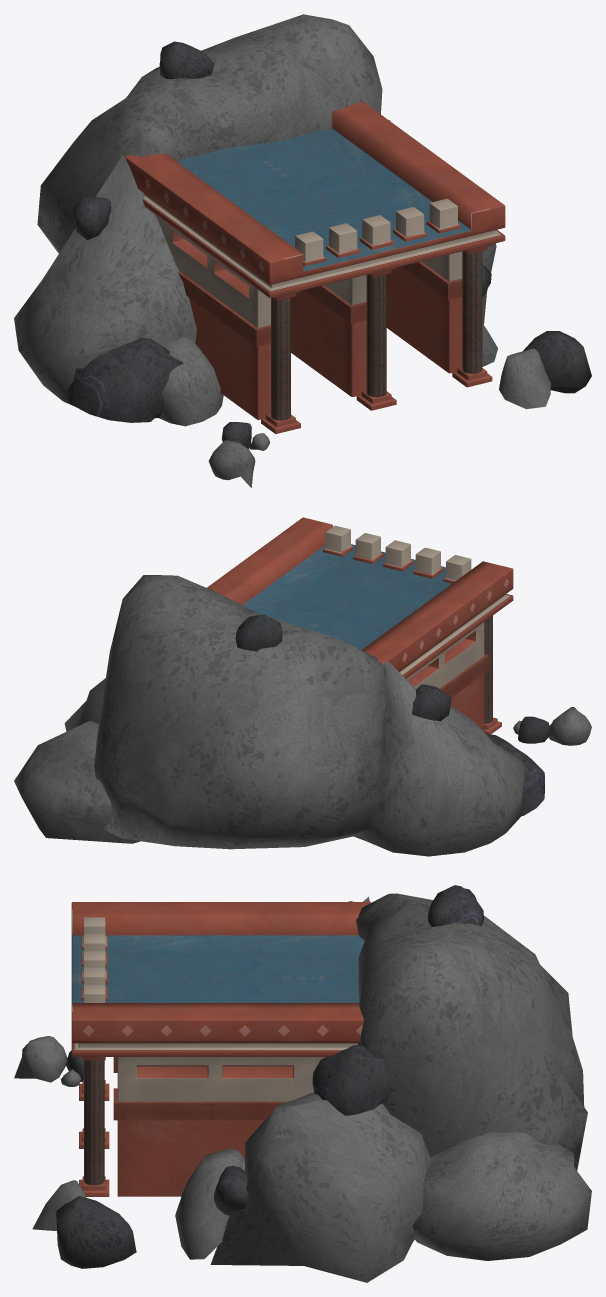
Rendered from ASSETMODEL_MINA.fbx.
The picture shows the model from 3 angles, top to bottom: view 1: azimuth 30°, elevation 25°; view 2: azimuth 150°, elevation 25°; view 3: azimuth 270°, elevation 25°; orthographic projection. The views are drawn at different scales.
Visible parts, largest first — view 1: Plane.008, Cube.023, Cylinder.003, Plane.013, Cylinder.007, Cube.022, Cylinder.002, Plane.009, Cylinder.011, Cylinder.012, Cylinder.009, Cylinder.013 (+3 smaller); view 2: Cube.023, Plane.008, Cylinder.003, Cylinder.004, Cube.022, Cylinder.007, Cylinder.009, Cylinder.013, Cylinder.008, Plane.013, Cylinder.001, Plane.009 (+1 smaller); view 3: Plane.008, Cube.023, Cylinder.001, Cylinder.004, Cylinder.011, Cylinder, Cylinder.005, Plane.013, Plane.009, Cube.022, Cylinder.013, Cylinder.009 (+2 smaller).
Boxes of the visible parts, bbox=[...] form: Plane.008: bbox=[125, 101, 505, 420]; Cube.023: bbox=[37, 14, 382, 253]; Cylinder.003: bbox=[14, 155, 196, 406]; Plane.013: bbox=[261, 244, 492, 433]; Cylinder.007: bbox=[64, 337, 183, 422]; Cube.022: bbox=[295, 198, 460, 266]; Cylinder.002: bbox=[158, 337, 223, 426]; Plane.009: bbox=[178, 261, 462, 346]; Cylinder.011: bbox=[523, 331, 591, 393]; Cylinder.012: bbox=[499, 348, 550, 409]; Cylinder.009: bbox=[159, 41, 214, 79]; Cylinder.013: bbox=[208, 440, 255, 487]; Cube.023: bbox=[94, 575, 386, 849]; Plane.008: bbox=[207, 517, 513, 731]; Cylinder.003: bbox=[354, 660, 525, 856]; Cylinder.004: bbox=[14, 720, 140, 843]; Cube.022: bbox=[323, 525, 471, 583]; Cylinder.007: bbox=[486, 734, 544, 816]; Cylinder.009: bbox=[235, 614, 282, 651]; Cylinder.013: bbox=[549, 707, 591, 745]; Cylinder.008: bbox=[412, 684, 451, 721]; Plane.013: bbox=[484, 615, 501, 734]; Cylinder.001: bbox=[64, 678, 105, 731]; Plane.009: bbox=[440, 654, 489, 697]; Plane.008: bbox=[71, 902, 370, 1196]; Cube.023: bbox=[356, 893, 587, 1170]; Cylinder.001: bbox=[210, 1092, 431, 1282]; Cylinder.004: bbox=[412, 1132, 591, 1260]; Cylinder.011: bbox=[56, 1196, 136, 1268]; Cylinder: bbox=[175, 1148, 244, 1259]; Cylinder.005: bbox=[312, 1045, 390, 1115]; Plane.013: bbox=[79, 1057, 109, 1196]; Plane.009: bbox=[113, 1088, 286, 1120]; Cube.022: bbox=[81, 917, 107, 1002]; Cylinder.013: bbox=[14, 1036, 67, 1082]; Cylinder.009: bbox=[427, 885, 483, 926].
Size of the model in its own units: 1757 by 973 by 1769.
